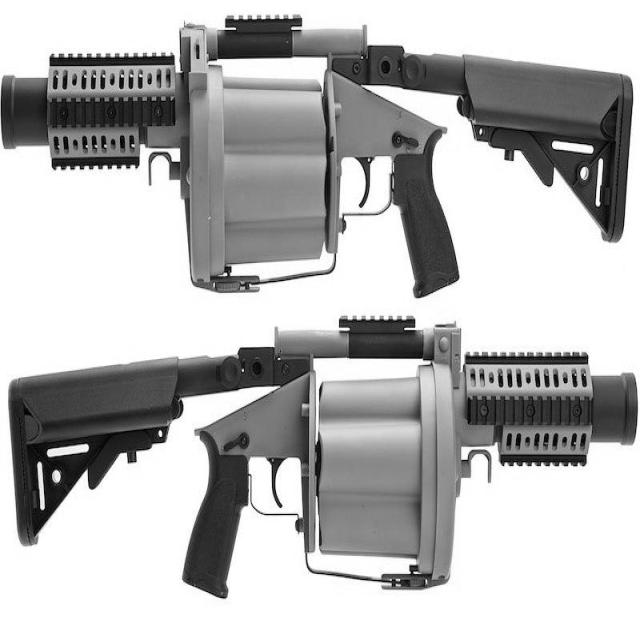Lancher: (9, 0, 632, 301), (9, 355, 640, 609)
